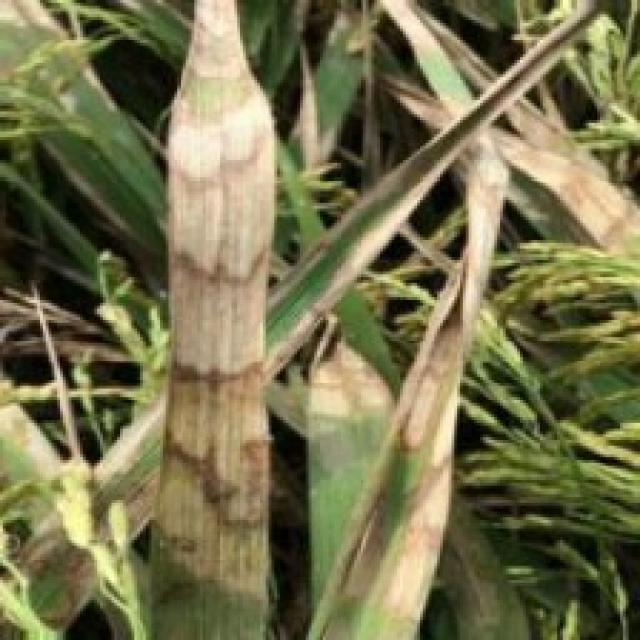Bacterial_Blight: (305, 121, 517, 640), (151, 0, 279, 614), (377, 73, 640, 264), (320, 482, 398, 616), (376, 524, 440, 634), (401, 456, 473, 542), (426, 378, 484, 462), (400, 363, 441, 457)
